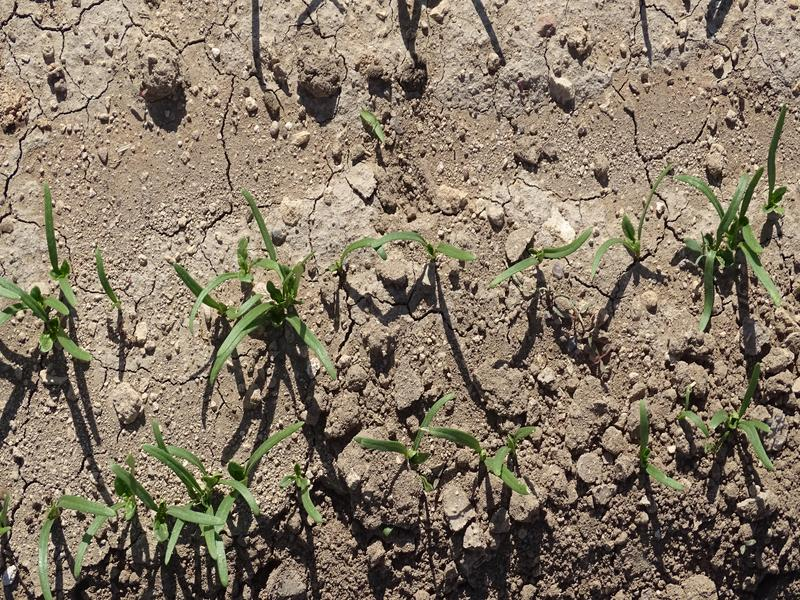Espinaca: (29, 428, 319, 585), (202, 210, 331, 394), (672, 123, 788, 327), (3, 180, 105, 363), (362, 402, 542, 495), (587, 158, 677, 281), (679, 375, 776, 466), (496, 224, 597, 282), (334, 228, 475, 266), (645, 420, 683, 487)
